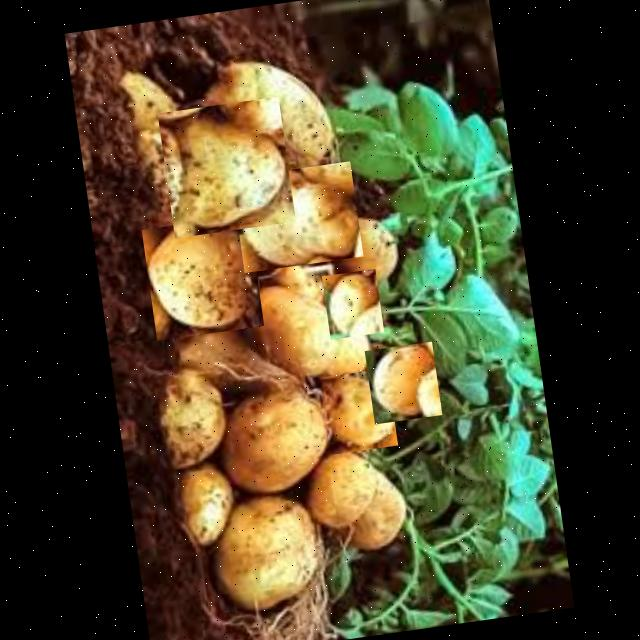Diseased-fungal potato: (157, 95, 296, 238), (210, 368, 337, 502), (142, 214, 264, 340), (232, 160, 364, 272), (298, 444, 386, 535), (320, 367, 398, 454), (364, 341, 442, 424), (322, 268, 384, 338)
